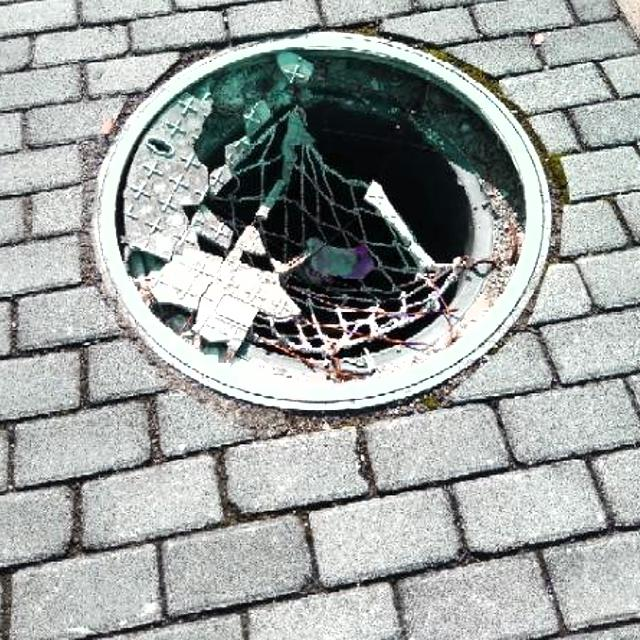broke: (65, 1, 589, 440)
